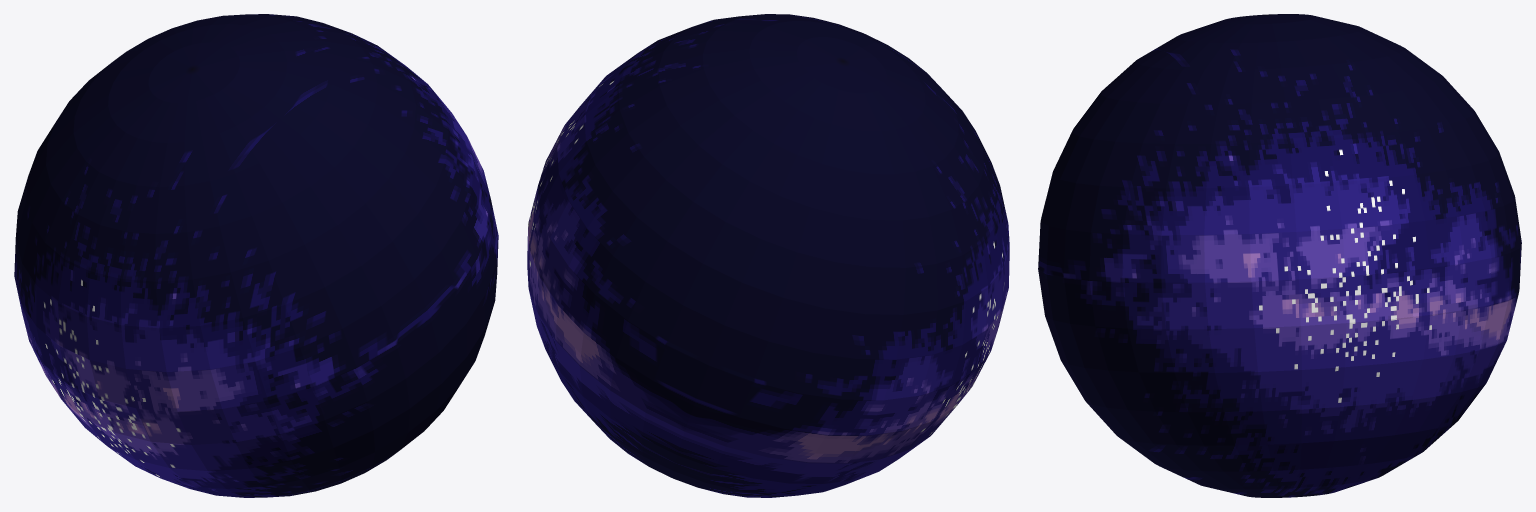
The model's file is EvilOrb.glb.
3 renders of one model, left to right at view 1: azimuth 30°, elevation 25°; view 2: azimuth 150°, elevation 25°; view 3: azimuth 270°, elevation 25°, orthographic.
Parts seen in each view (by area): view 1: Sphere; view 2: Sphere; view 3: Sphere.
Boxes of the visible parts, x1,y1,x2,y2 form: Sphere: (14, 14, 498, 497); Sphere: (527, 14, 1009, 497); Sphere: (1038, 14, 1521, 497).
Bounding box in the file's own units: 1.99 × 2 × 1.99.
1 material, 1 textured.
